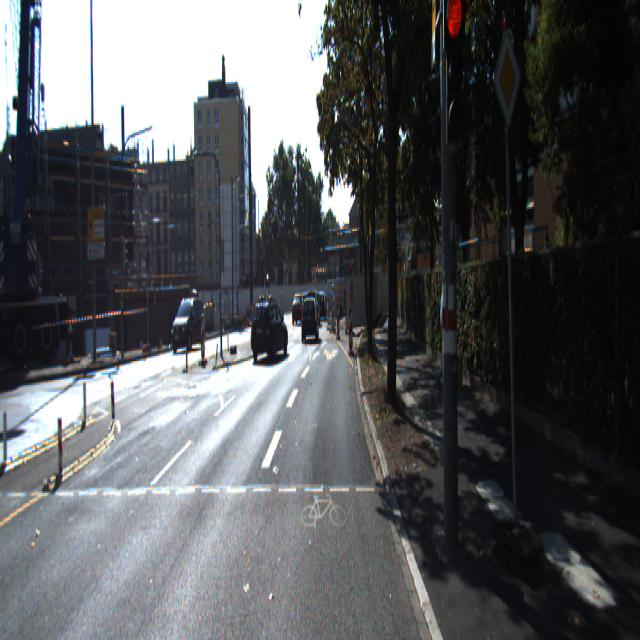Car: (248, 294, 289, 358), (170, 292, 206, 350), (300, 290, 318, 340), (292, 291, 306, 323)
